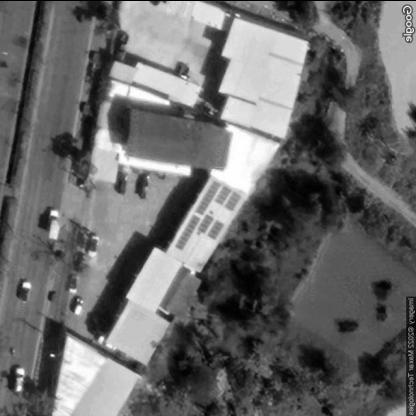solar-pv-panel: (176, 215, 200, 251), (194, 182, 220, 214), (207, 219, 225, 242), (215, 185, 231, 206), (198, 212, 213, 234), (225, 191, 241, 210)
